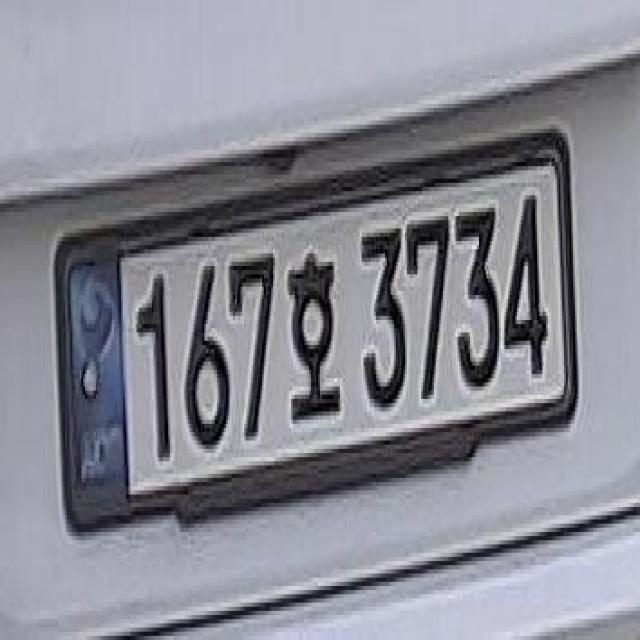illegal_plate: (51, 135, 576, 534)
